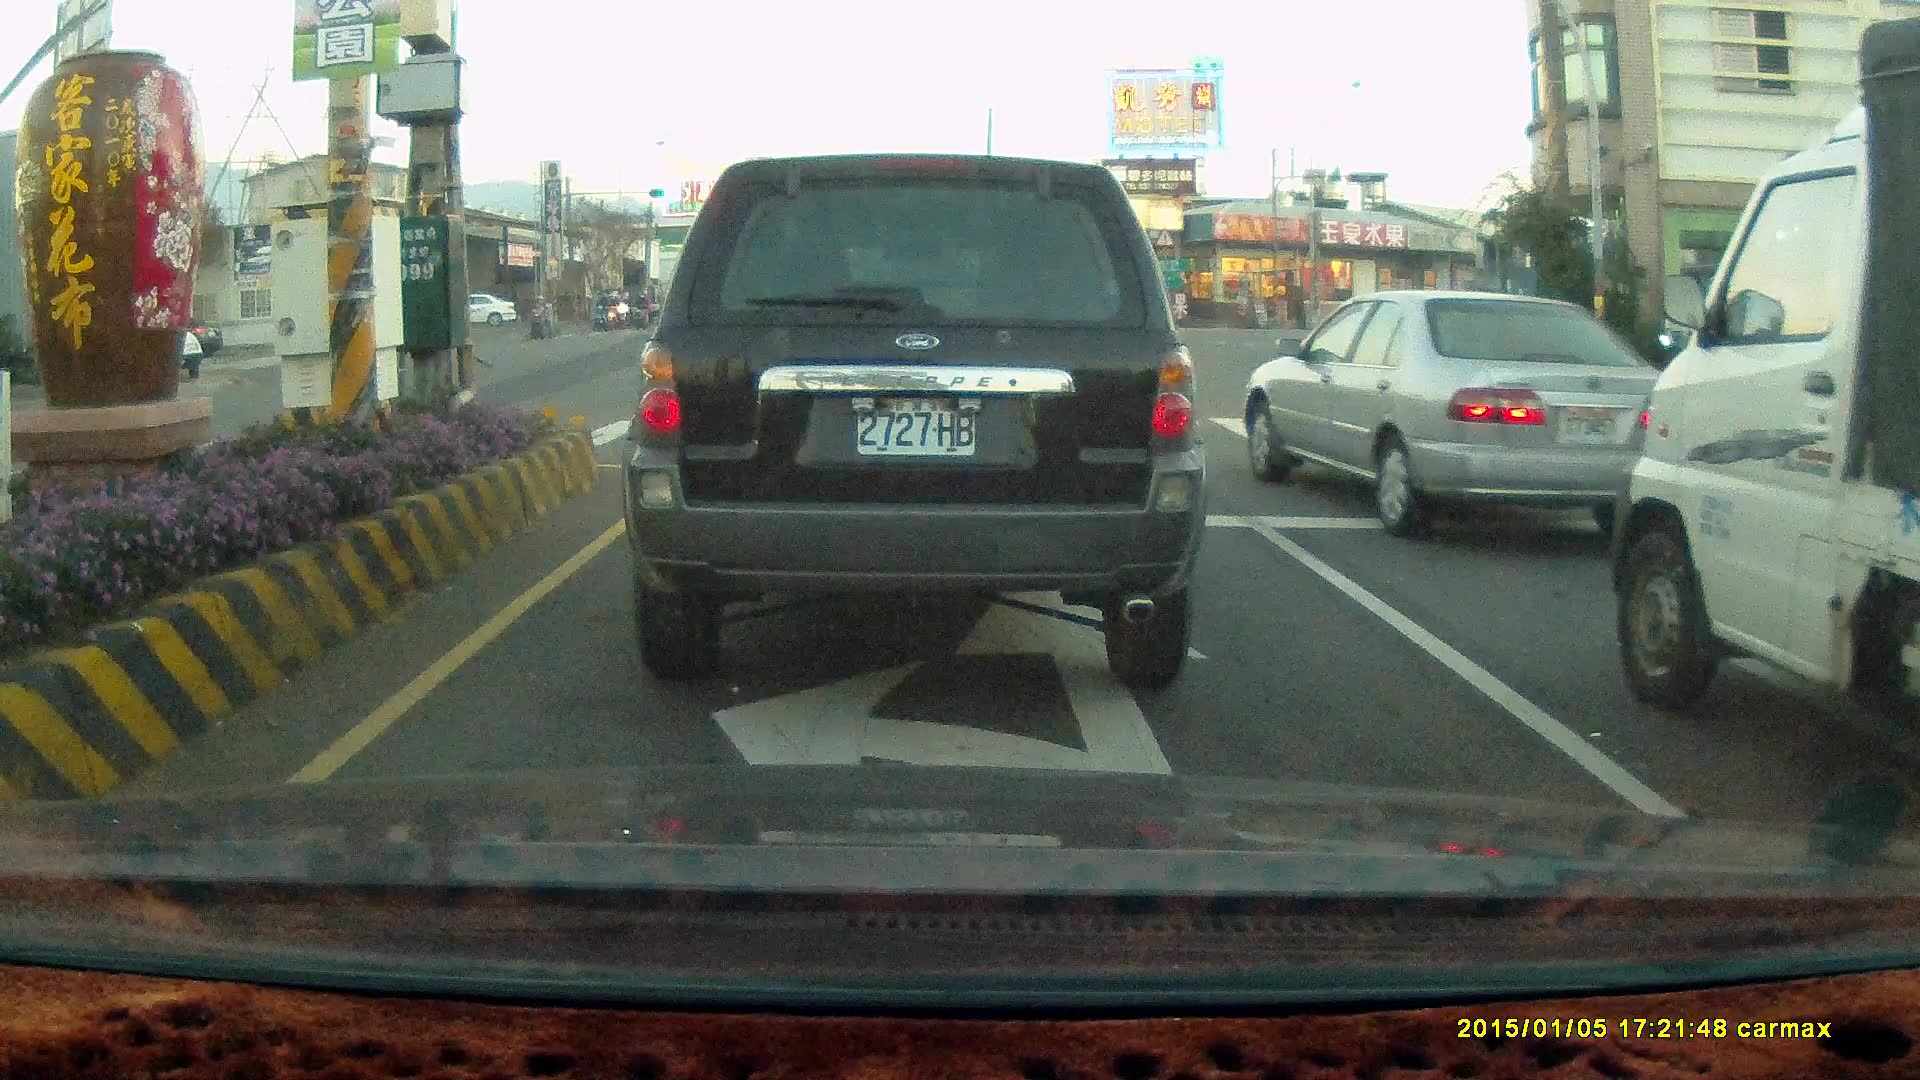rider: (524, 289, 554, 340), (629, 289, 652, 330), (590, 289, 611, 330), (594, 294, 616, 331)
vehicle: (617, 150, 1209, 695), (1604, 13, 1920, 785), (1239, 288, 1692, 541), (1245, 288, 1672, 539), (1670, 278, 1826, 371), (448, 295, 519, 328)
